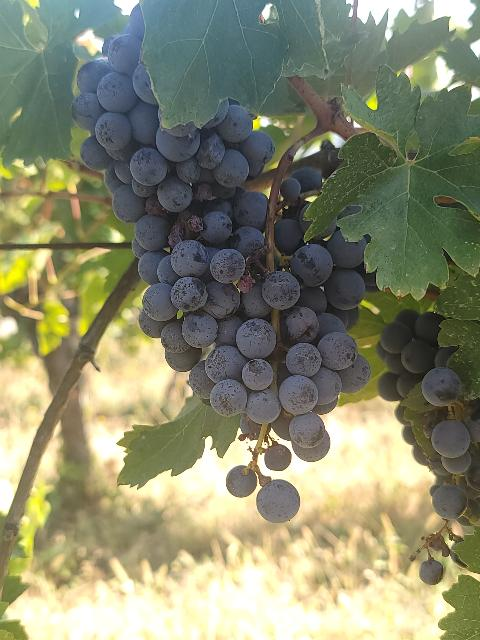grapes: (71, 5, 275, 370), (200, 169, 370, 522)
